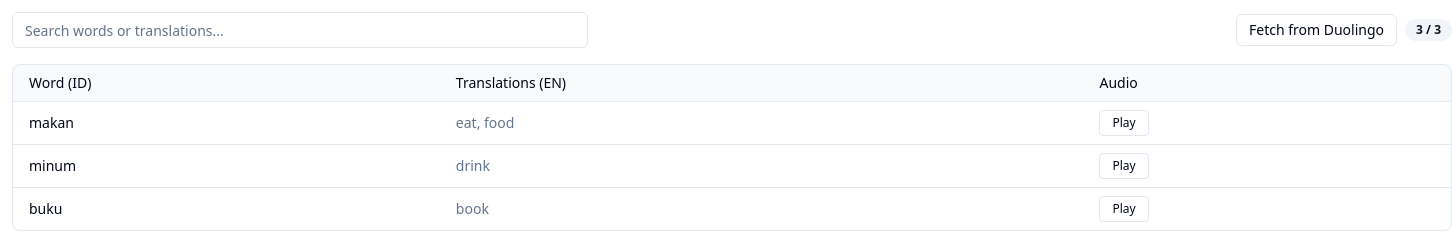
Test: WordsTable › Search functionality › should filter lexemes by word text
In the field with placeholder "Search words or translations...": (300, 30) [12, 12, 588, 48], type "mak"
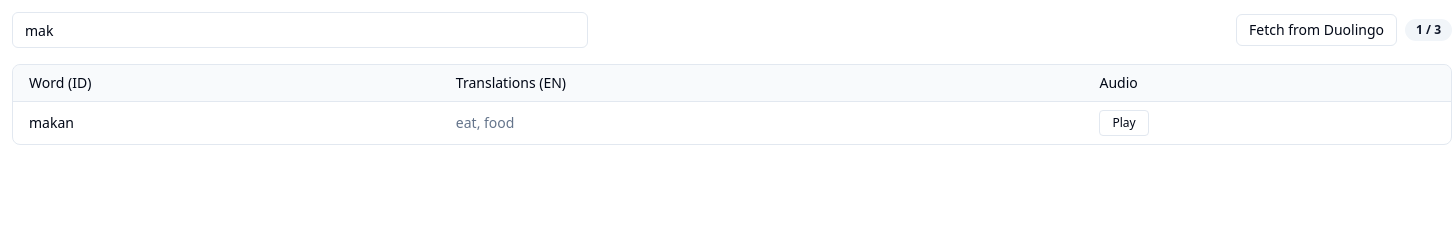
Expected: the text "makan" is shown, [13, 102, 440, 144]
Result: the text "minum" is gone
Result: the text "buku" is gone
